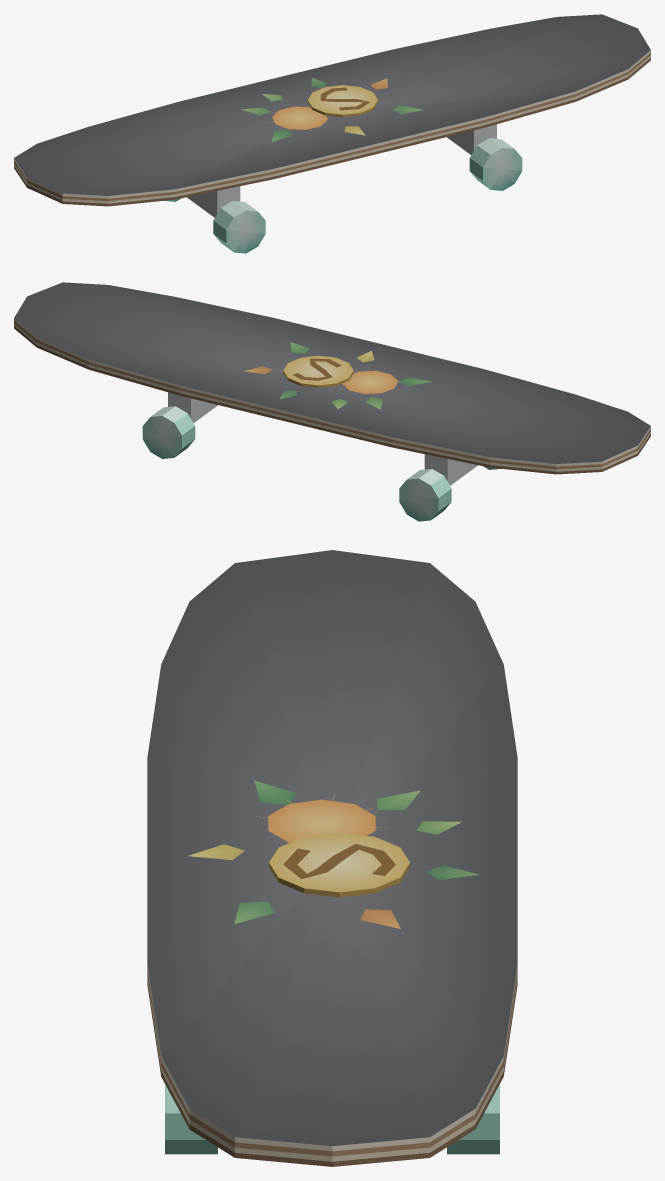
File: skateboard.glb
3 renders of one model, top to bottom at view 1: azimuth 30°, elevation 25°; view 2: azimuth 150°, elevation 25°; view 3: azimuth 270°, elevation 25°, orthographic. The views are drawn at different scales.
Parts seen in each view (by area): view 1: skateboard; view 2: skateboard; view 3: skateboard.
Boxes of the visible parts, x1,y1,x2,y2 form: skateboard: [14, 14, 650, 253]; skateboard: [14, 282, 650, 521]; skateboard: [147, 550, 517, 1166].
Bounding box in the file's own units: 0.8 × 0.111 × 0.21.
